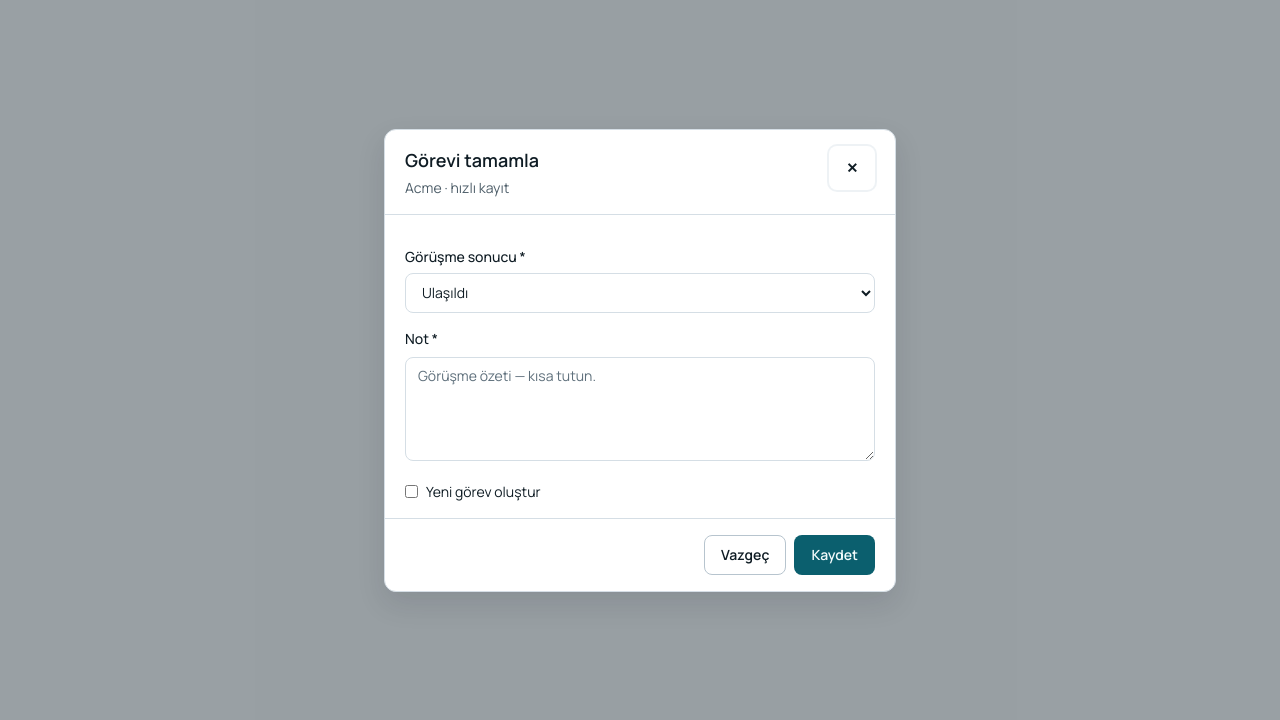
Test: CompleteTaskModal › blocks submit without notes
Click the button "Kaydet": click(835, 554) x1=794 y1=534 x2=875 y2=574
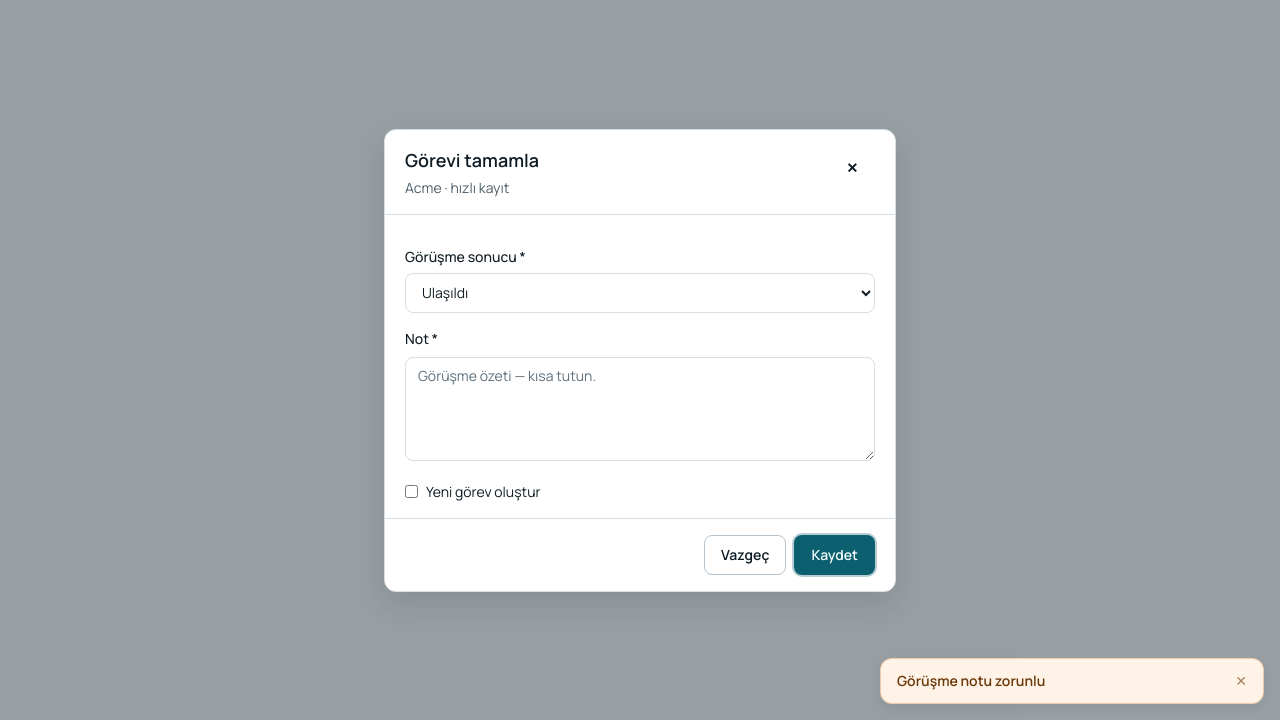
Check: the text "Görüşme notu zorunlu" is shown, box x1=897 y1=671 x2=1045 y2=691
